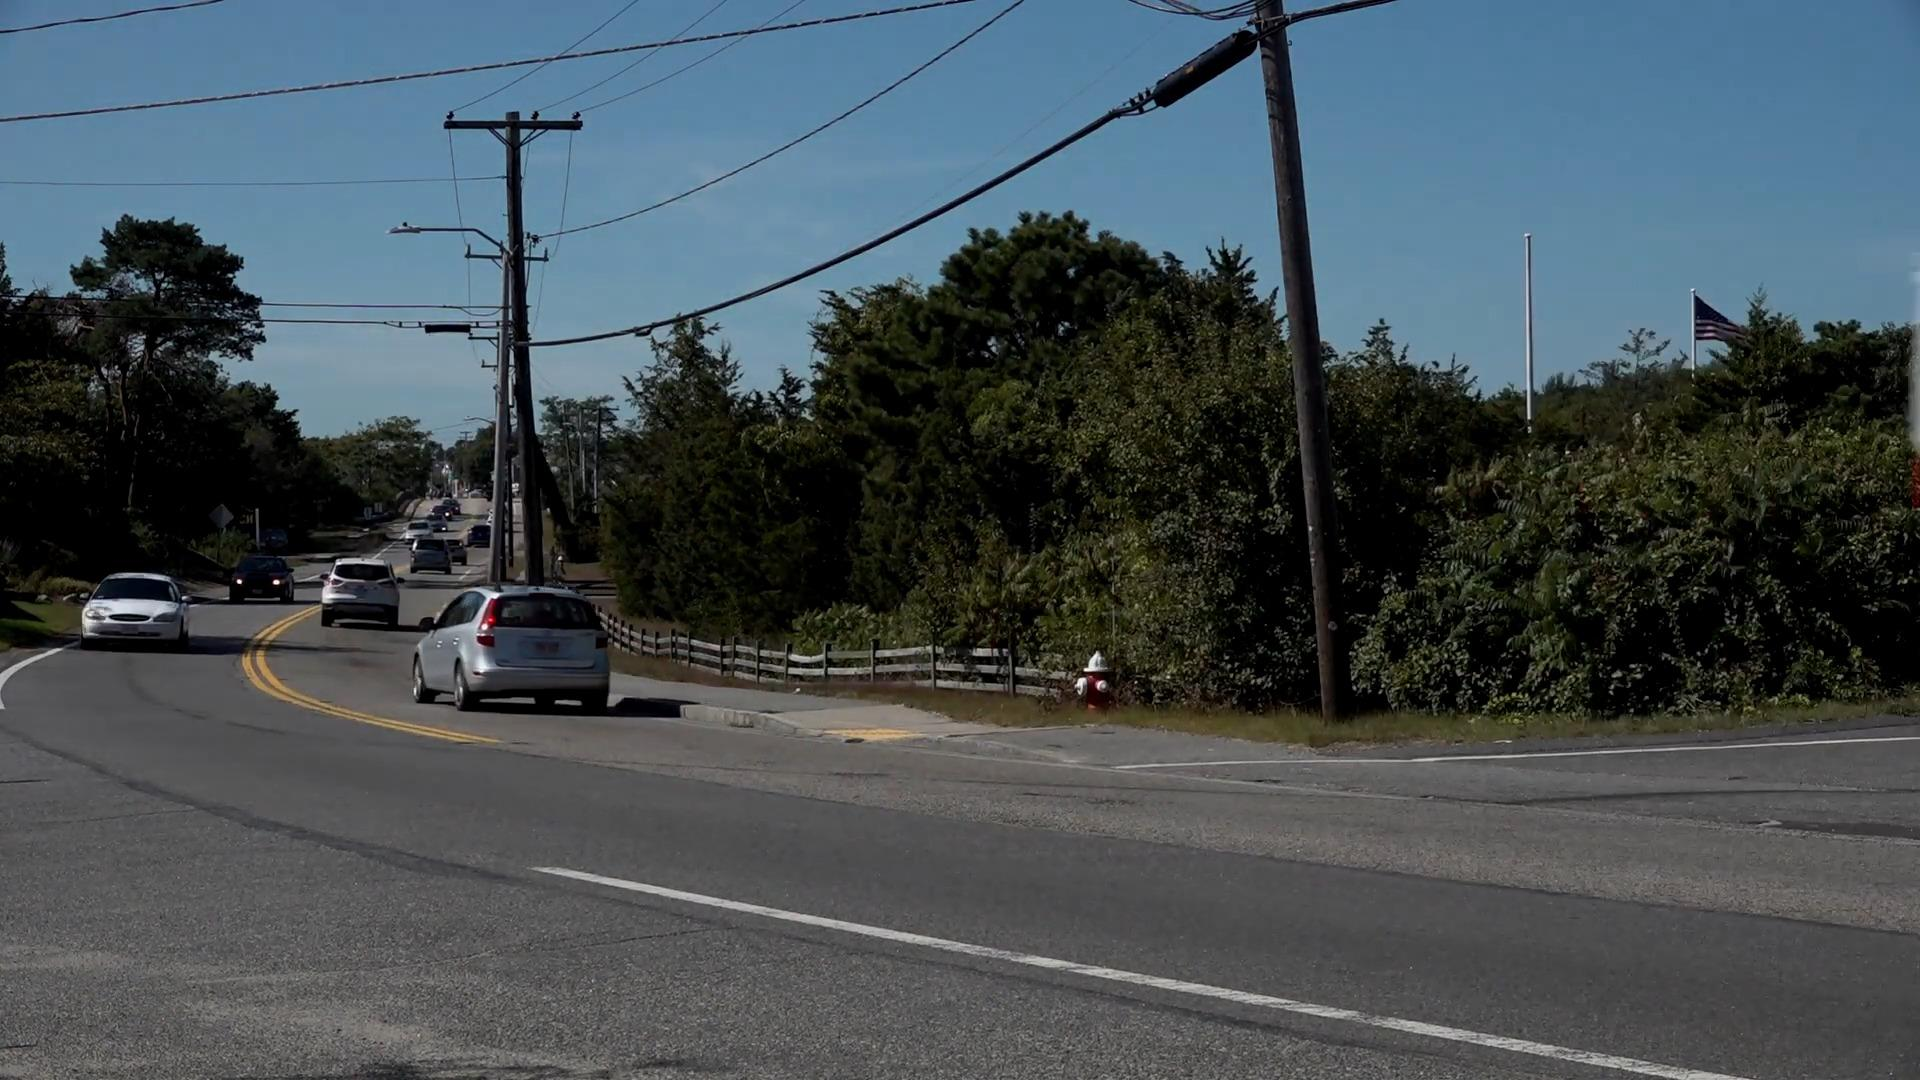sedans: (407, 584, 611, 716), (80, 574, 187, 646)
suv: (321, 557, 400, 626)
